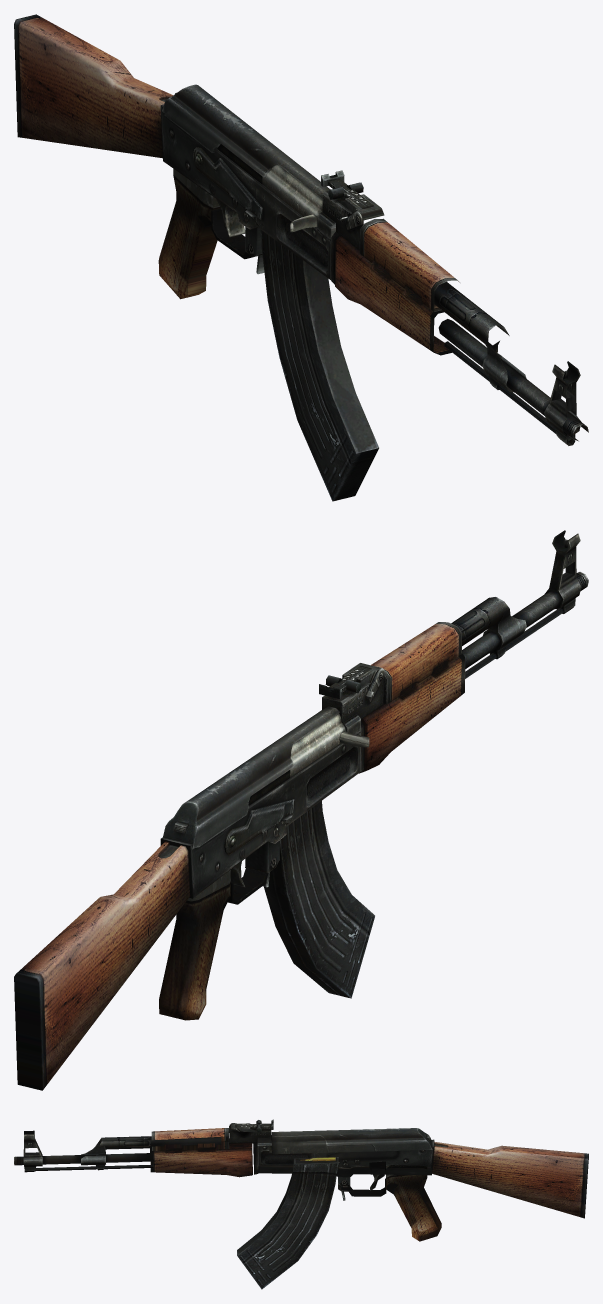
The model's file is model_view_ak47.glb.
3 views of the same model, one above another, from view 1: azimuth 30°, elevation 25°; view 2: azimuth 150°, elevation 25°; view 3: azimuth 270°, elevation 25° (orthographic). The views are drawn at different scales.
Visible parts, largest first — view 1: v_rif_ak47.mdl/ak47_reference.smd; view 2: v_rif_ak47.mdl/ak47_reference.smd; view 3: v_rif_ak47.mdl/ak47_reference.smd.
Part boxes in pixels (x1,y1,x2,y2): v_rif_ak47.mdl/ak47_reference.smd: (14, 14, 588, 501); v_rif_ak47.mdl/ak47_reference.smd: (14, 530, 588, 1090); v_rif_ak47.mdl/ak47_reference.smd: (14, 1119, 588, 1289).
Size of the model in its own units: 0.2257 by 1.18 by 3.75.
1 material, 1 textured.
